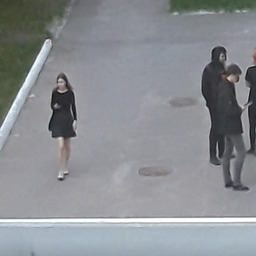person: (202, 47, 236, 167), (218, 64, 249, 191), (49, 73, 77, 180)
